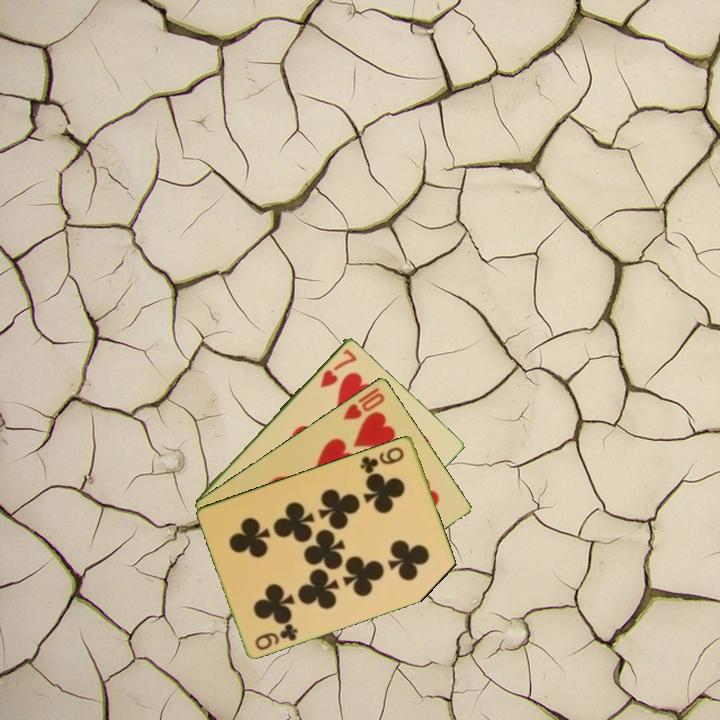10h: (339, 383, 387, 423)
7h: (316, 345, 360, 391)
9c: (251, 619, 301, 653), (357, 443, 407, 476)
